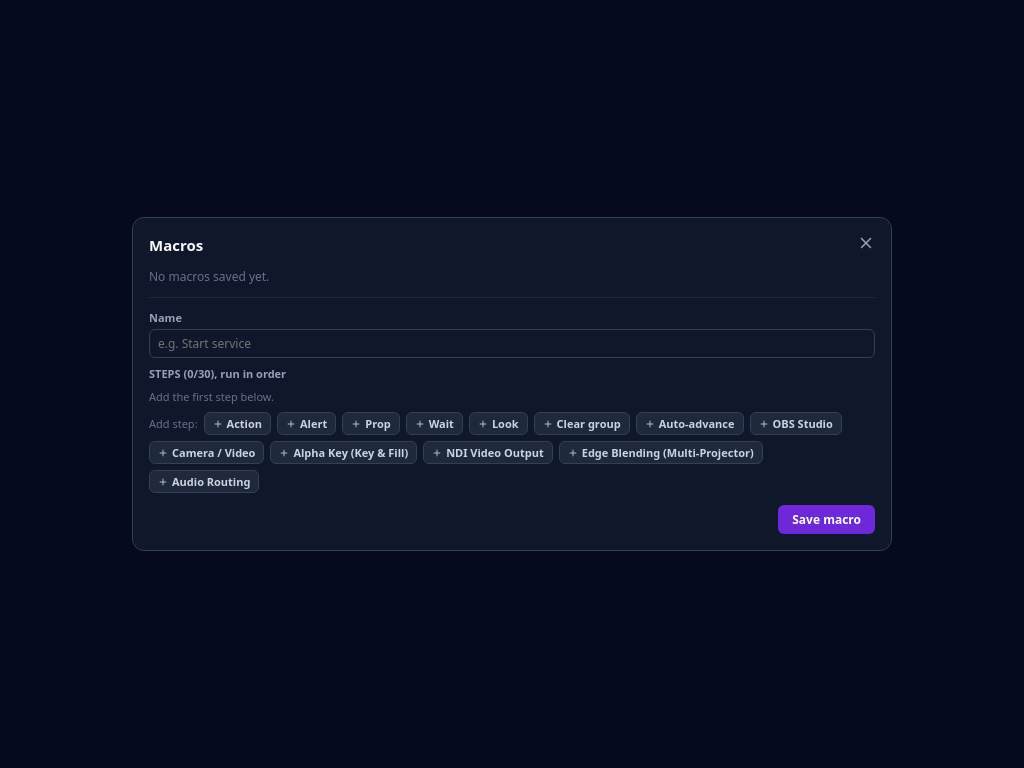
look steps in macros › the macro editor will not save a look step with no look chosen
Type "Bad" into the field with test id "macro-name" at (512, 344), box [149,329,875,358]
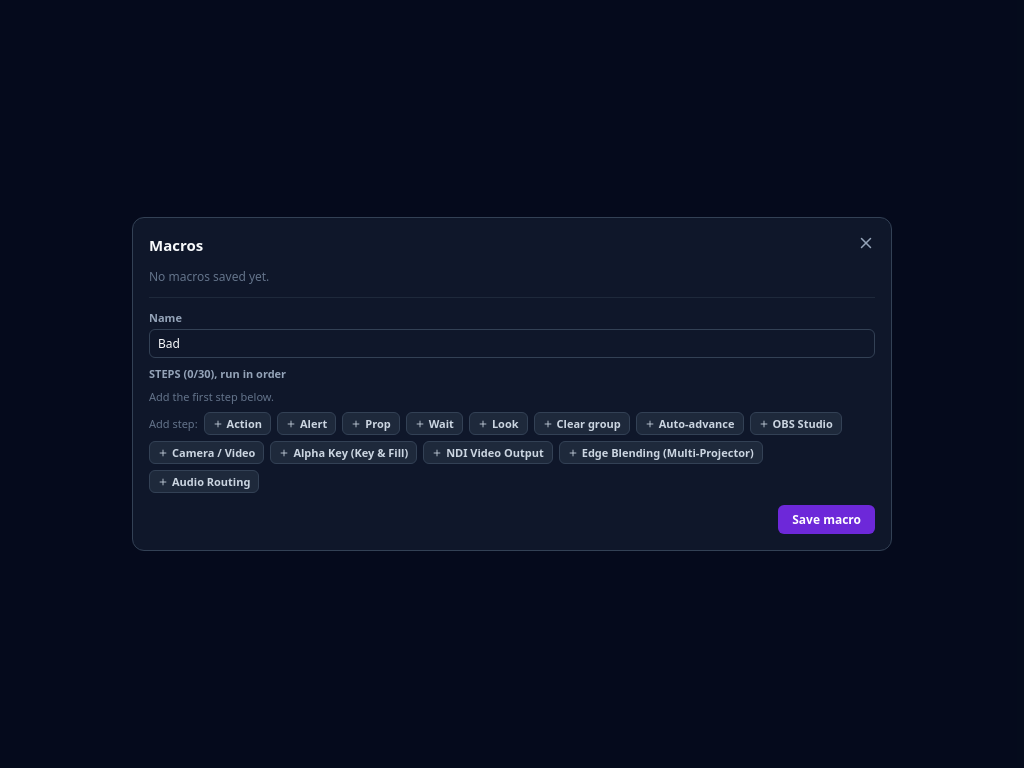
Click the button with test id "add-step-look" at (498, 424), box [469,412,528,435]
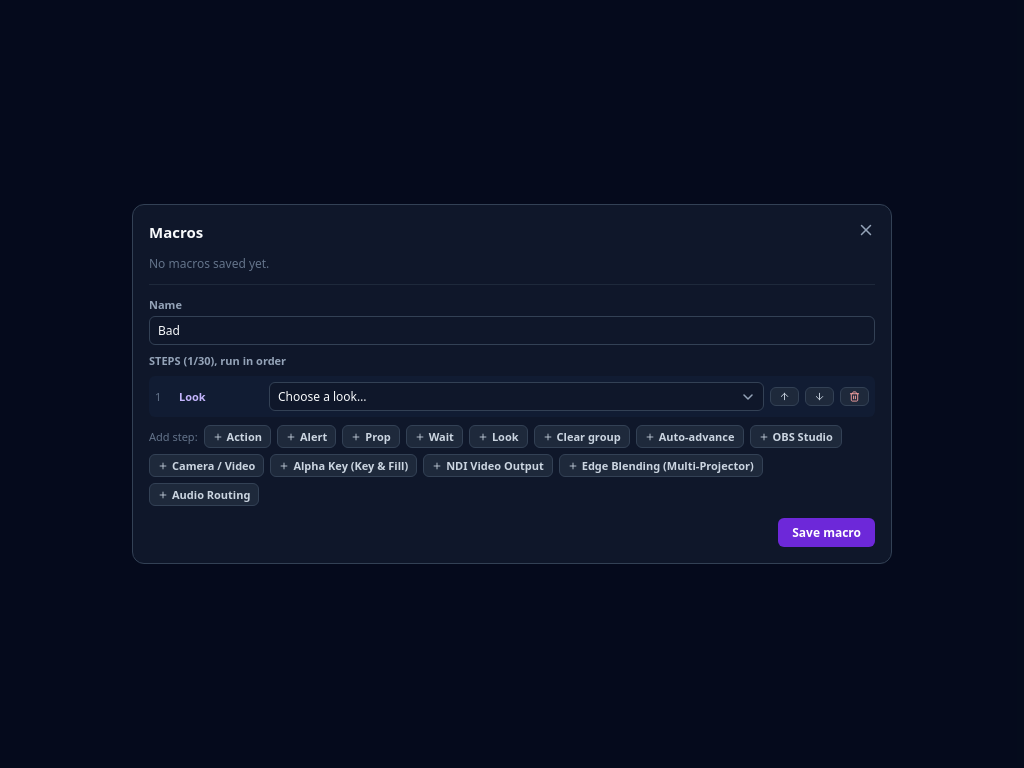
Click the button with test id "macro-save" at (827, 532), box [778,518,875,547]
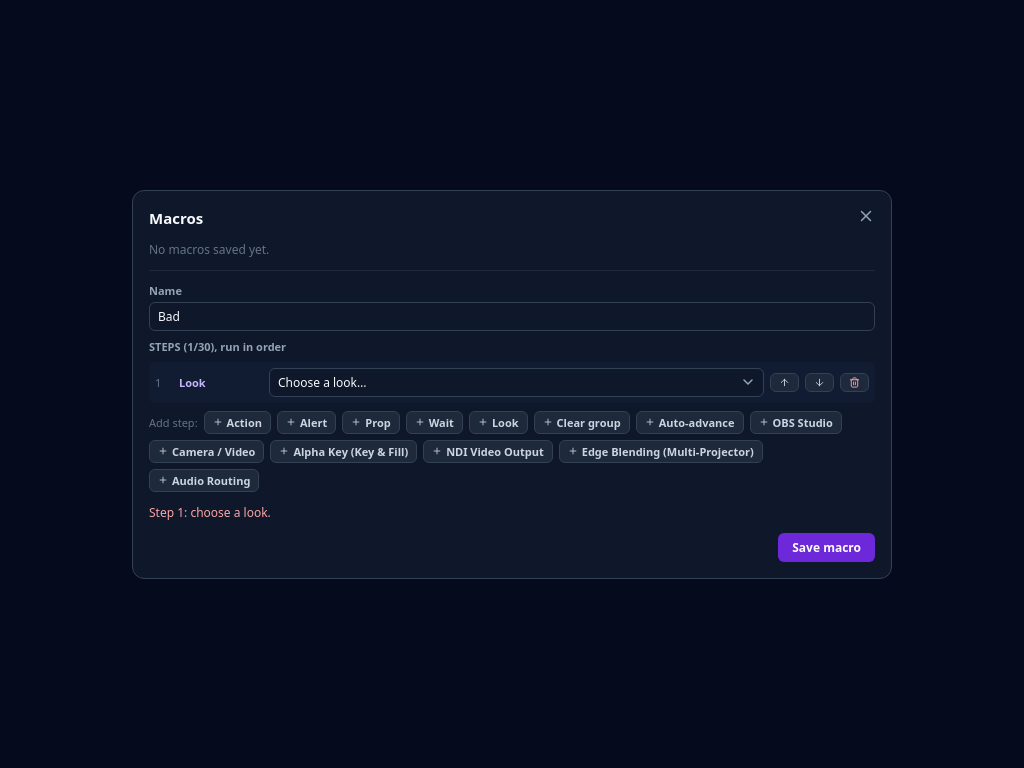
Check: the message with test id "macro-form-error" shows "Step 1: choose a look", box [149,504,271,520]
